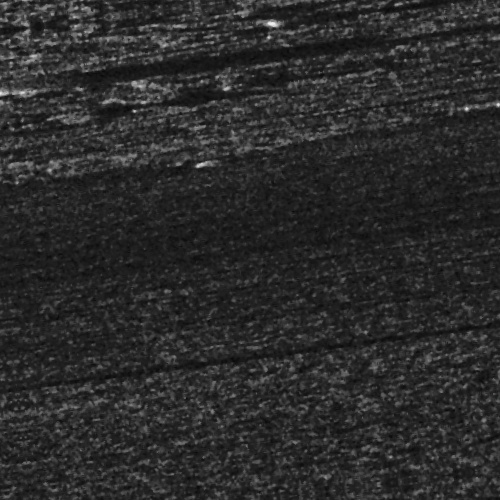object: (199, 154, 240, 157)
shadow: (220, 154, 300, 157)
